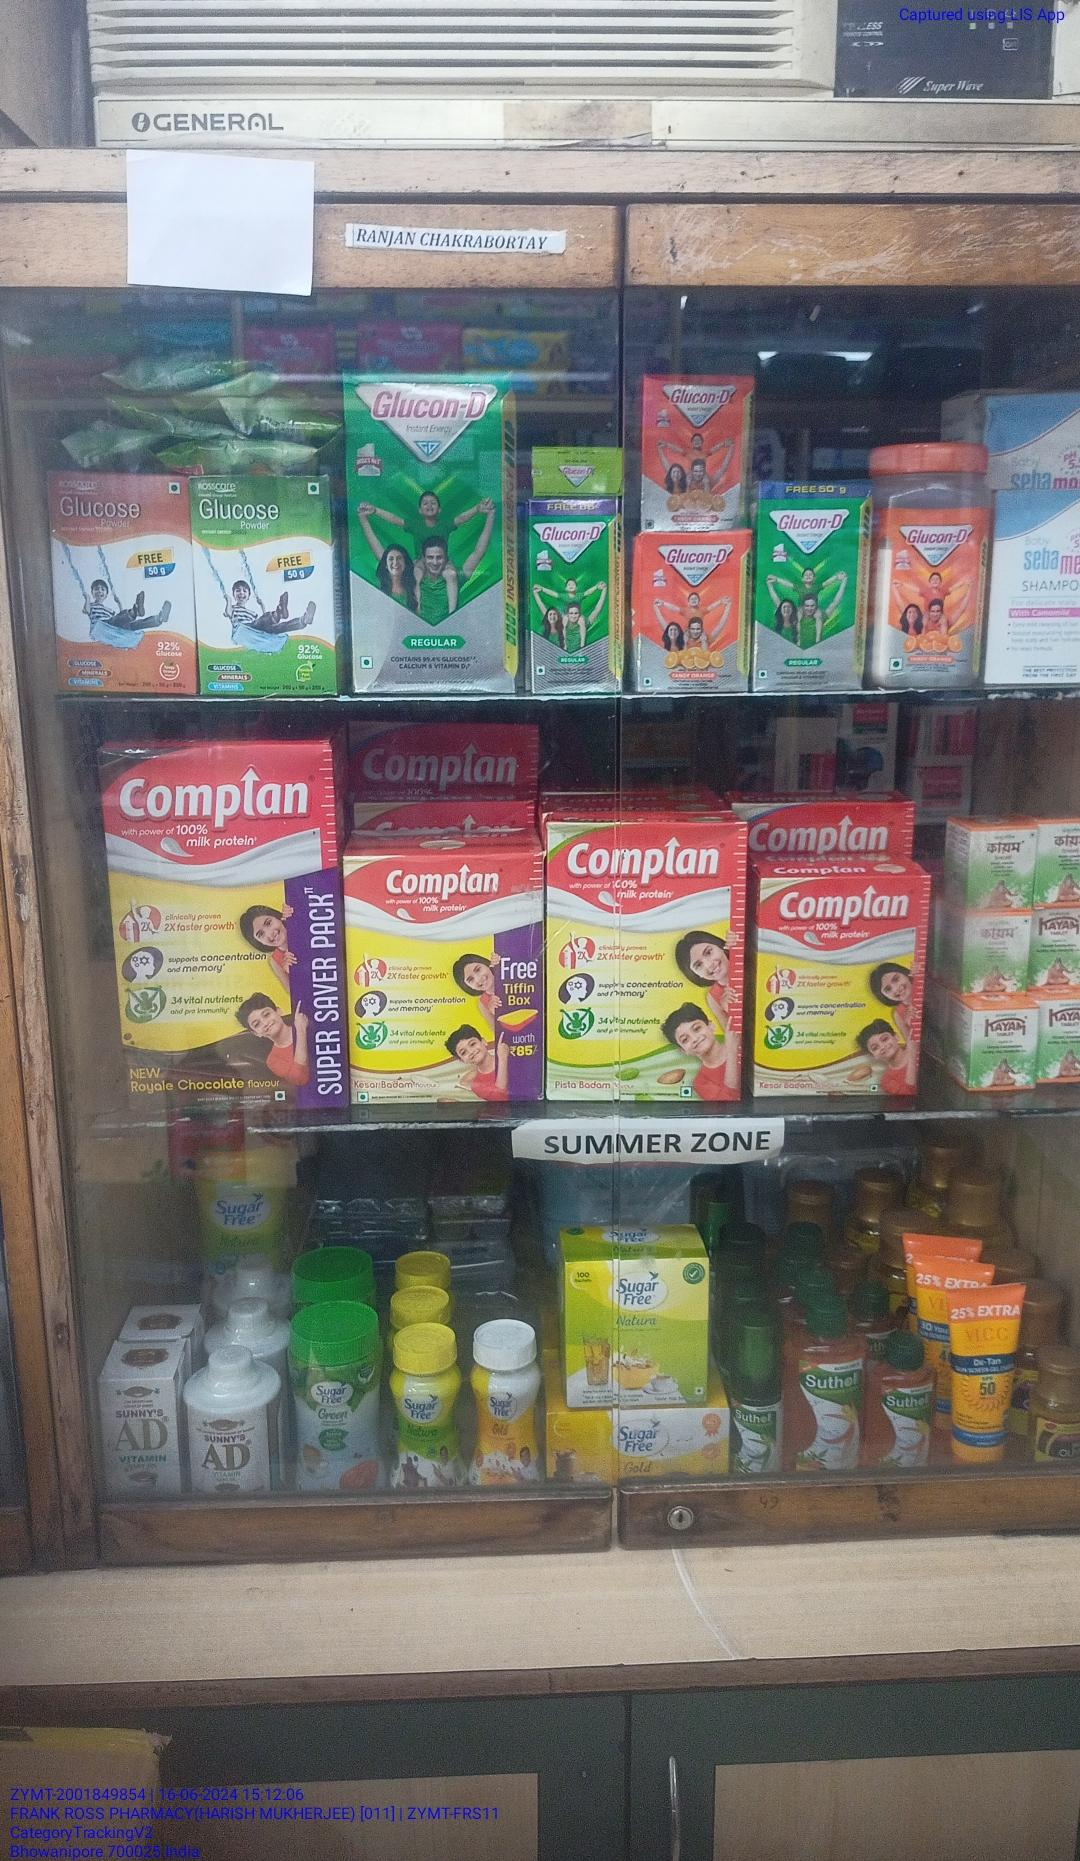COMPLAN_CHOCOLATE_1_KG_PACK: (114, 749, 343, 1113)
COMPLAN_KESAR_BADAM_200_GMS_PACK: (755, 882, 921, 1096)
COMPLAN_PISTA_BADAM_500_GMS_PACK: (550, 824, 739, 1101)
